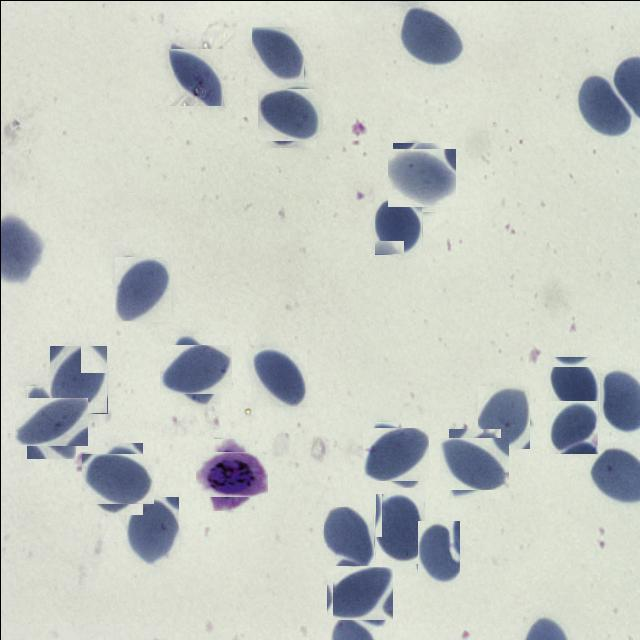gametocyte: (202, 444, 260, 503)
red blood cell: (390, 144, 452, 208), (49, 345, 107, 413), (398, 6, 462, 66), (164, 338, 226, 399), (20, 391, 81, 452), (86, 448, 148, 508), (444, 432, 504, 493), (114, 256, 170, 321), (365, 424, 425, 484), (329, 563, 389, 623), (374, 493, 424, 564), (260, 84, 319, 144), (126, 496, 178, 564), (576, 72, 630, 136), (250, 347, 306, 406), (477, 385, 529, 448), (168, 48, 222, 105), (323, 506, 374, 566), (251, 26, 304, 82), (549, 356, 599, 411), (374, 198, 422, 254), (417, 520, 459, 583), (548, 400, 597, 453)
